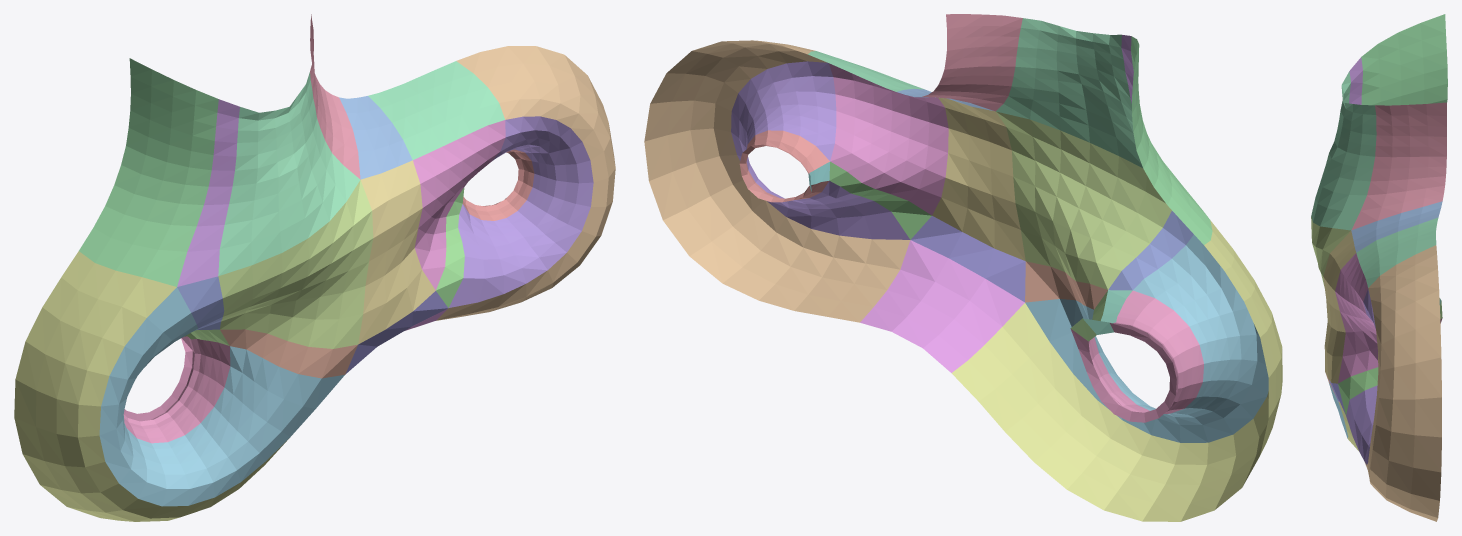
File: aquadom_quad_patch_color.obj
3 renders of one model, left to right at view 1: azimuth 30°, elevation 25°; view 2: azimuth 150°, elevation 25°; view 3: azimuth 270°, elevation 25°, orthographic. The views are drawn at different scales.
Size of the model in its own units: 68.53 by 49.61 by 13.79.
